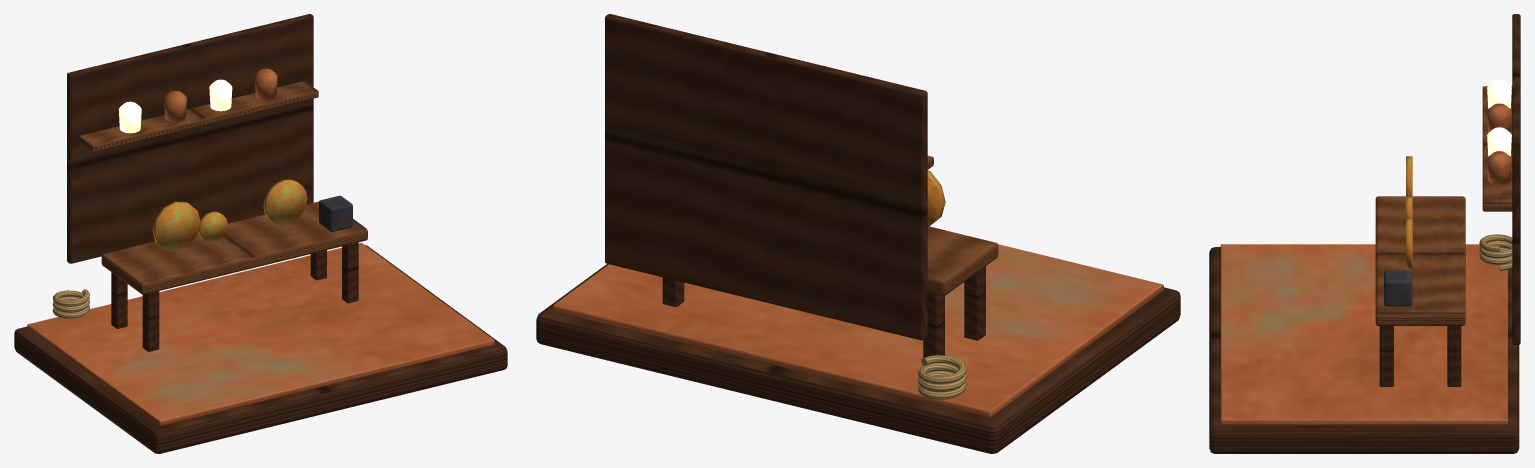
Rendered from mini_2.glb.
3 views of the same model, side by side, from view 1: azimuth 30°, elevation 25°; view 2: azimuth 150°, elevation 25°; view 3: azimuth 270°, elevation 25° (orthographic). The views are drawn at different scales.
Parts seen in each view (by area): view 1: mini2_plinth_trim, mini2_backboard, mini2_plinth, mini2_bench_top, mini2_gears, mini2_shelf, mini2_vise, mini2_bench_leg, mini2_bench_leg.002, mini2_rope_coil, mini2_bench_leg.001, mini2_jar_3 (+3 smaller); view 2: mini2_backboard, mini2_plinth_trim, mini2_plinth, mini2_bench_top, mini2_rope_coil, mini2_bench_leg, mini2_bench_leg.001, mini2_gears; view 3: mini2_plinth_trim, mini2_plinth, mini2_bench_top, mini2_backboard, mini2_shelf, mini2_vise, mini2_rope_coil, mini2_bench_leg.002, mini2_bench_leg.003, mini2_gears, mini2_jar_3, mini2_jar_1 (+2 smaller).
Boxes of the visible parts, bbox=[...] form: mini2_plinth_trim: bbox=[27, 243, 494, 426]; mini2_backboard: bbox=[67, 14, 313, 263]; mini2_plinth: bbox=[14, 245, 507, 453]; mini2_bench_top: bbox=[101, 201, 367, 294]; mini2_gears: bbox=[152, 179, 307, 250]; mini2_shelf: bbox=[79, 81, 318, 152]; mini2_vise: bbox=[319, 195, 352, 231]; mini2_bench_leg: bbox=[142, 291, 159, 351]; mini2_bench_leg.002: bbox=[342, 242, 358, 303]; mini2_rope_coil: bbox=[52, 289, 89, 318]; mini2_bench_leg.001: bbox=[111, 272, 127, 328]; mini2_jar_3: bbox=[254, 68, 277, 100]; mini2_backboard: bbox=[605, 14, 927, 340]; mini2_plinth_trim: bbox=[553, 244, 1163, 417]; mini2_plinth: bbox=[536, 264, 1180, 453]; mini2_bench_top: bbox=[927, 226, 998, 295]; mini2_rope_coil: bbox=[917, 355, 966, 399]; mini2_bench_leg: bbox=[964, 266, 985, 340]; mini2_bench_leg.001: bbox=[923, 292, 944, 365]; mini2_gears: bbox=[927, 170, 945, 227]; mini2_plinth_trim: bbox=[1220, 244, 1507, 425]; mini2_plinth: bbox=[1209, 247, 1519, 453]; mini2_bench_top: bbox=[1375, 196, 1465, 325]; mini2_backboard: bbox=[1512, 14, 1520, 344]; mini2_shelf: bbox=[1482, 86, 1512, 211]; mini2_vise: bbox=[1384, 270, 1412, 306]; mini2_rope_coil: bbox=[1479, 234, 1512, 270]; mini2_bench_leg.002: bbox=[1379, 326, 1393, 386]; mini2_bench_leg.003: bbox=[1447, 326, 1461, 386]; mini2_gears: bbox=[1406, 156, 1412, 269]; mini2_jar_3: bbox=[1487, 151, 1511, 185]; mini2_jar_1: bbox=[1487, 103, 1511, 132].
Bounding box in the file's own units: 0.78 × 0.56 × 0.5525.
7 materials, 6 textured.
